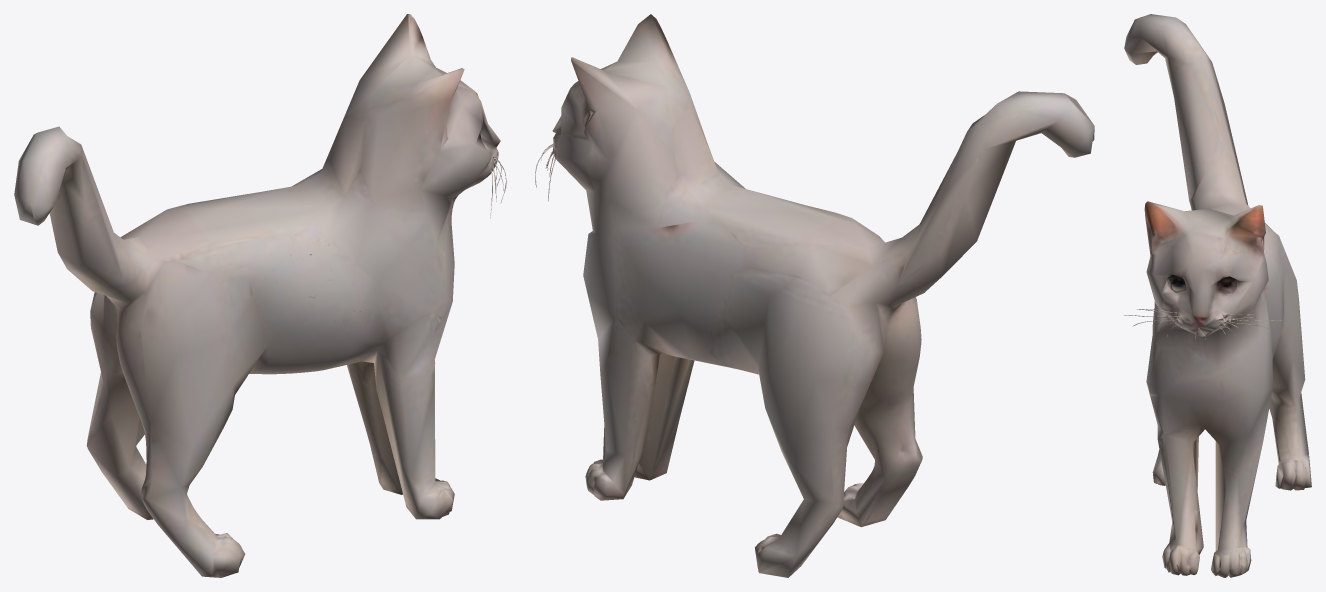
Rendered from SNOWCURL-lo.glb.
3 renders of one model, left to right at view 1: azimuth 30°, elevation 25°; view 2: azimuth 150°, elevation 25°; view 3: azimuth 270°, elevation 25°, orthographic. The views are drawn at different scales.
Parts seen in each view (by area): view 1: material; view 2: material; view 3: material.
Boxes of the visible parts, x1,y1,x2,y2 form: material: (14,14,506,577); material: (535,14,1094,577); material: (1124,14,1311,577).
Size of the model in its own units: 1.12 by 0.9912 by 0.4313.
Materials: 1 (1 with a texture image).
